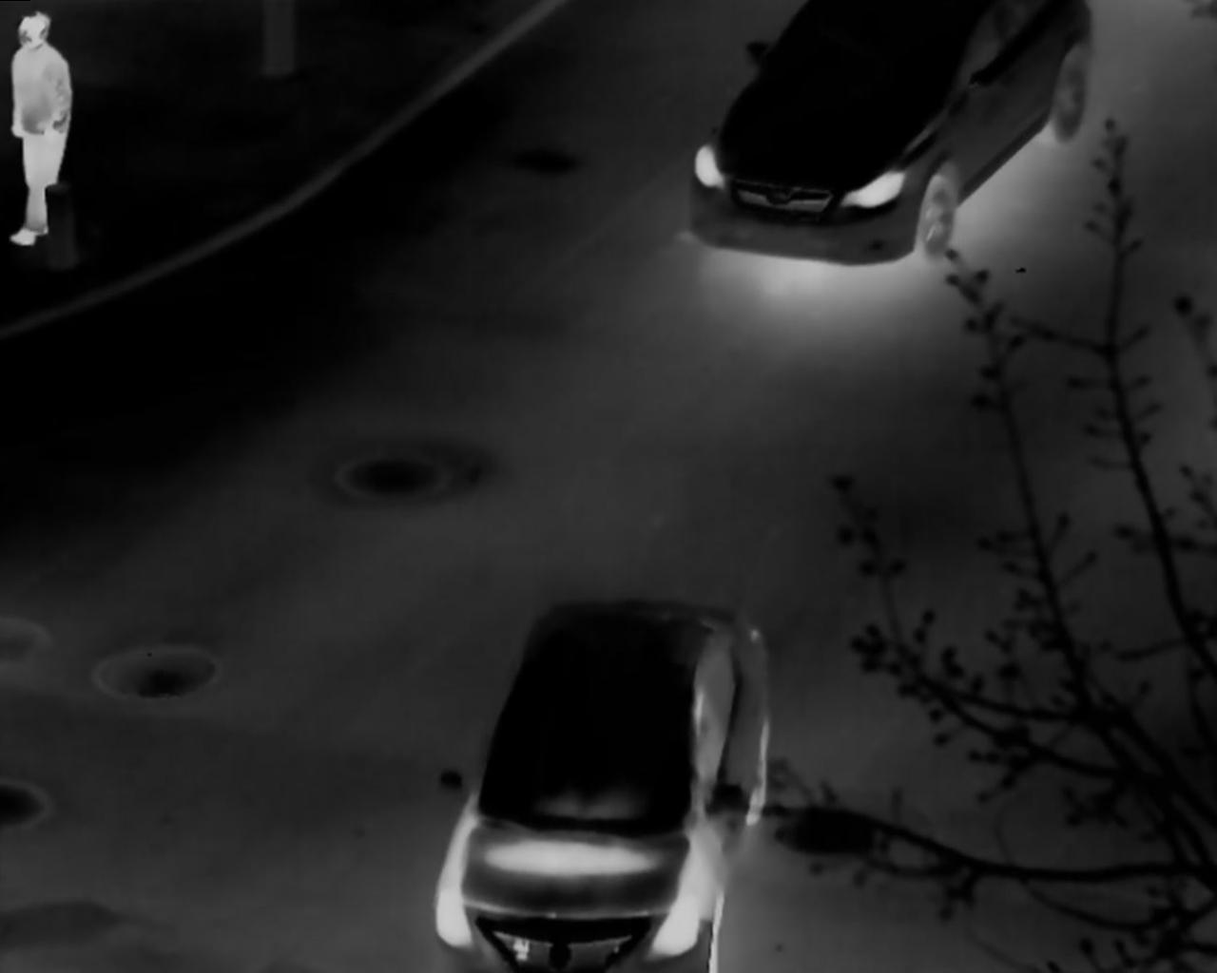person: (6, 10, 69, 248)
